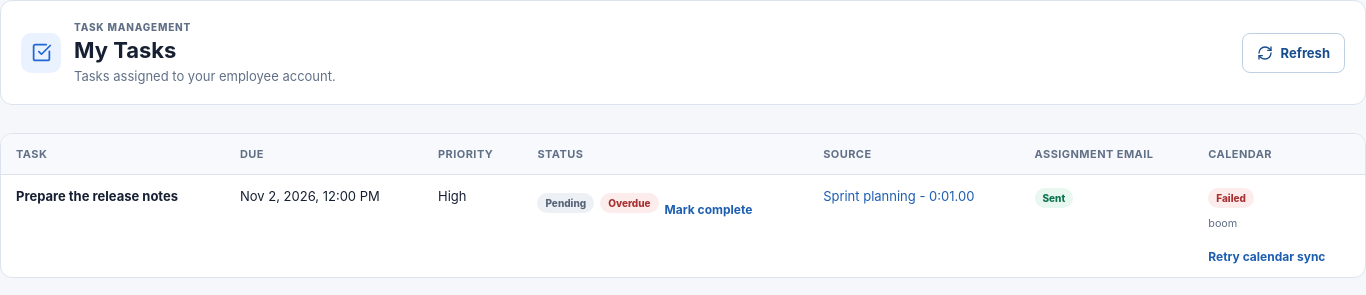
My Tasks calendar column › retries a failed sync from the task list
The image size is (1366, 295).
Click the button "Retry calendar sync" at (1267, 256), box [1208, 249, 1326, 264]
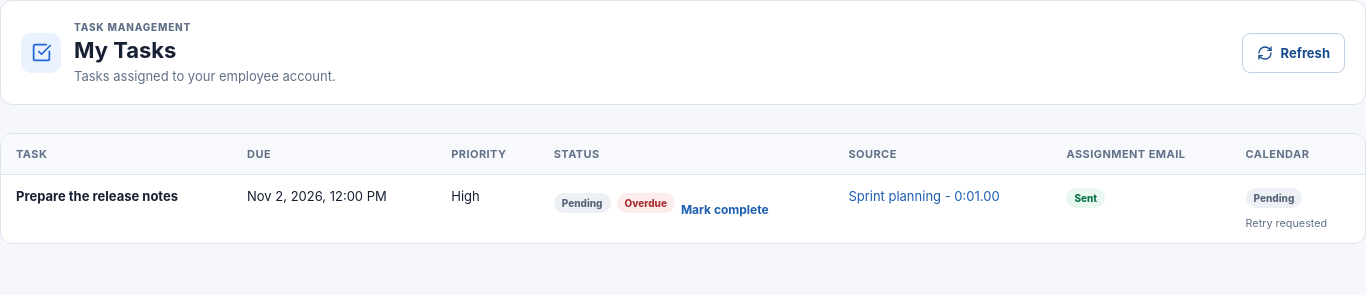
Result: the text "Retry requested" is shown at [1246, 217, 1327, 230]
